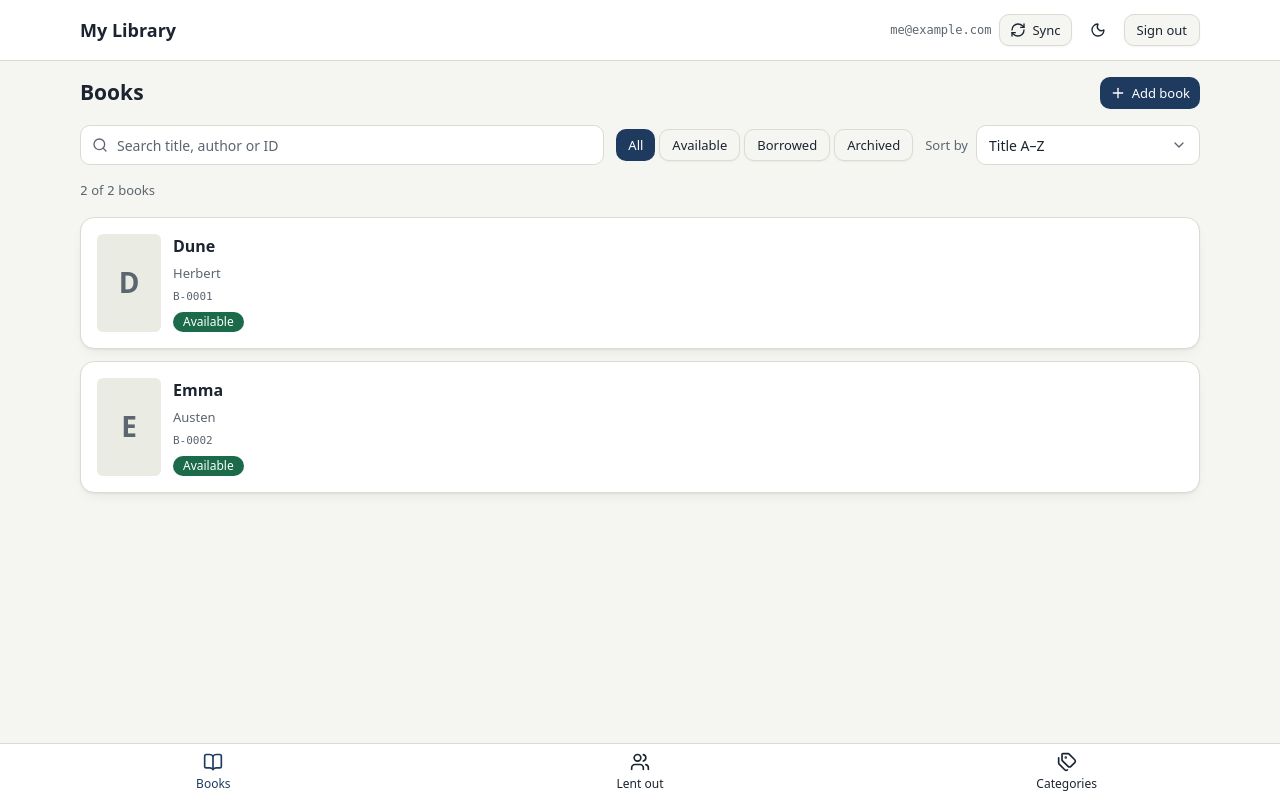
Scenario: Sync control › Sync with nothing queued just reloads from the Sheet
Expected: the text "Dune" is shown, [173,235,215,257]
Click the button "Sync".
click(1036, 30)  # box [1000,14,1072,46]
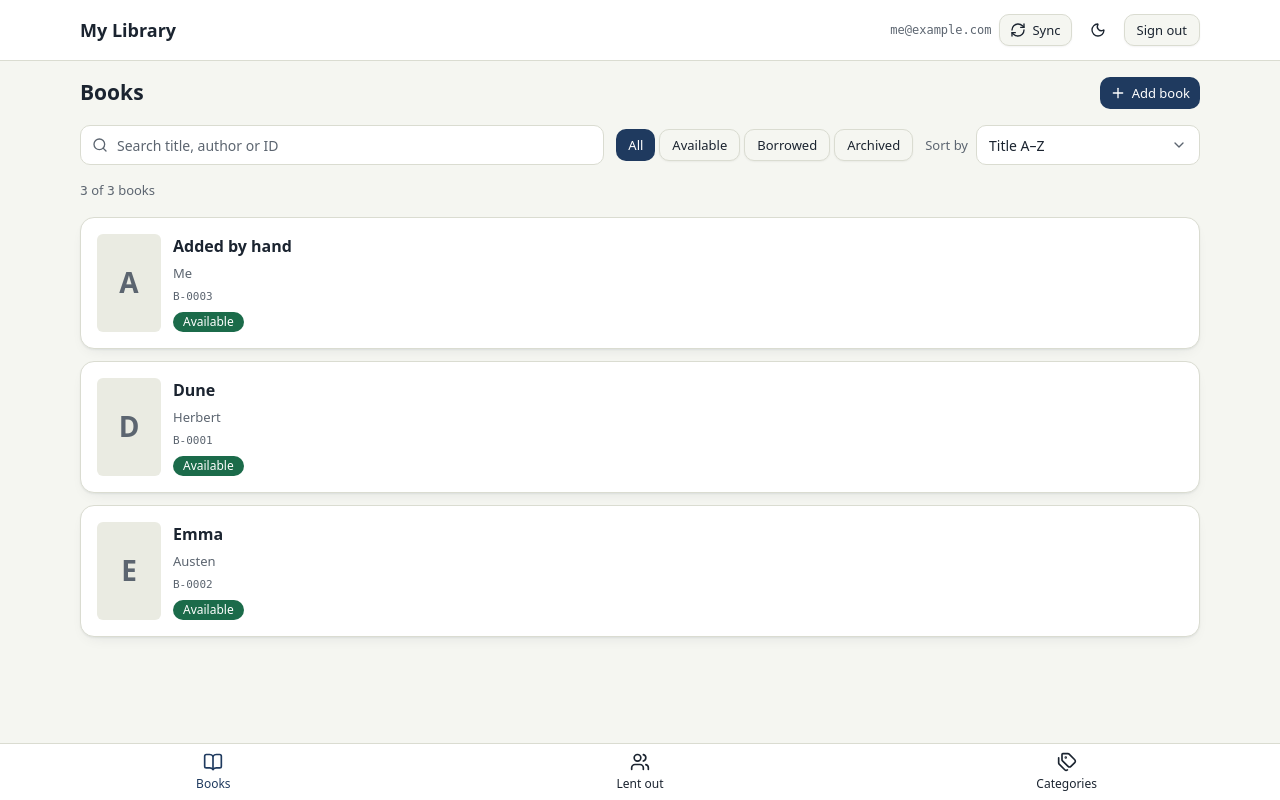
Result: the text "Added by hand" is shown at [173,235,292,257]
